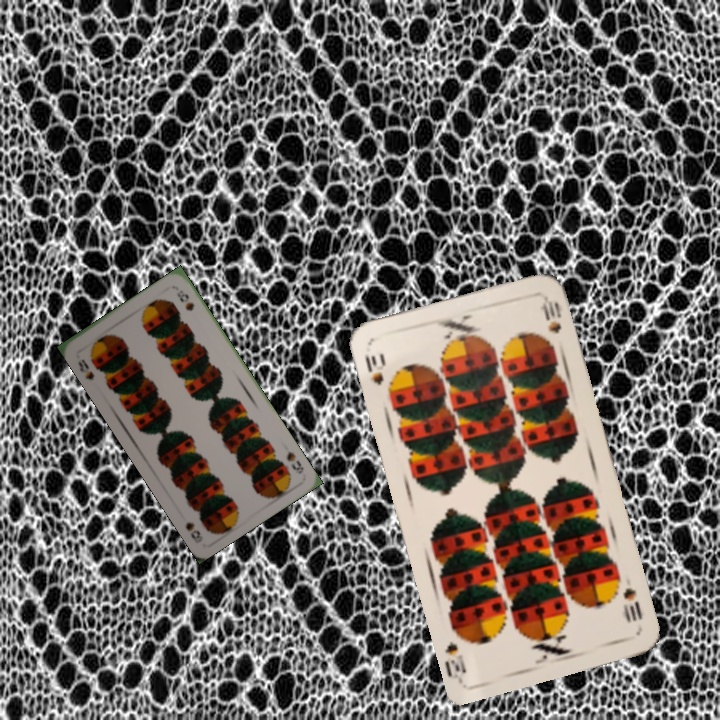S10: (619, 583, 645, 625), (360, 349, 386, 388)
S8: (282, 447, 306, 476), (74, 355, 97, 382)
